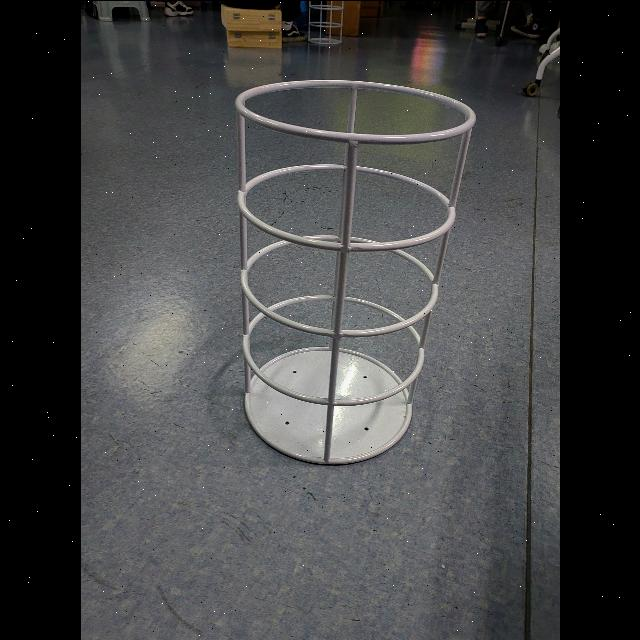S: (224, 72, 481, 470)
